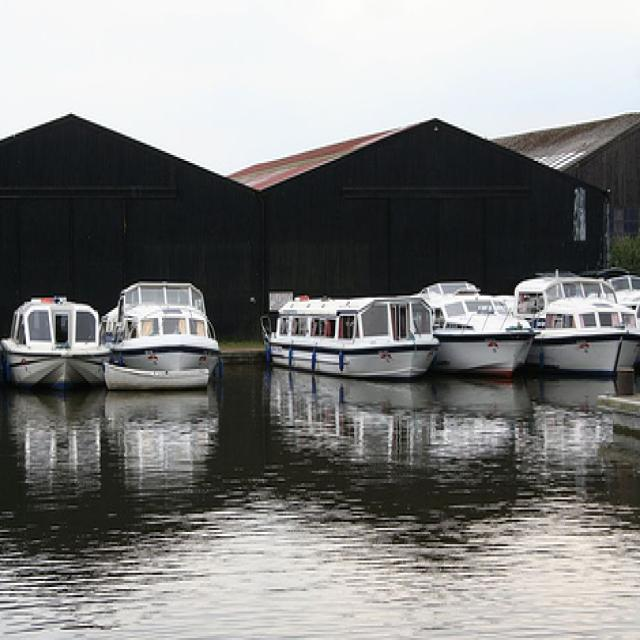houseboat: (245, 281, 428, 388), (100, 248, 206, 406), (414, 274, 540, 388), (0, 275, 102, 383)
